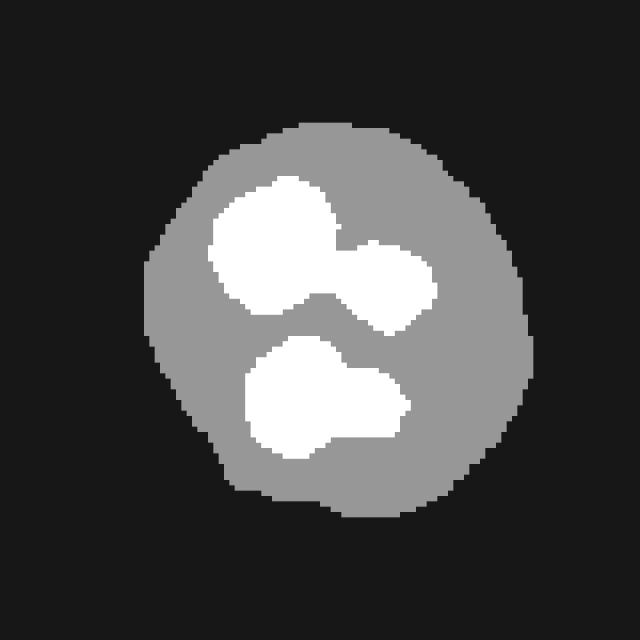WBC: (107, 96, 560, 539)
